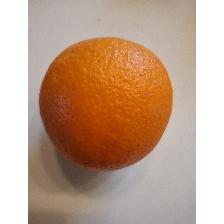Orange: (38, 33, 174, 175)
